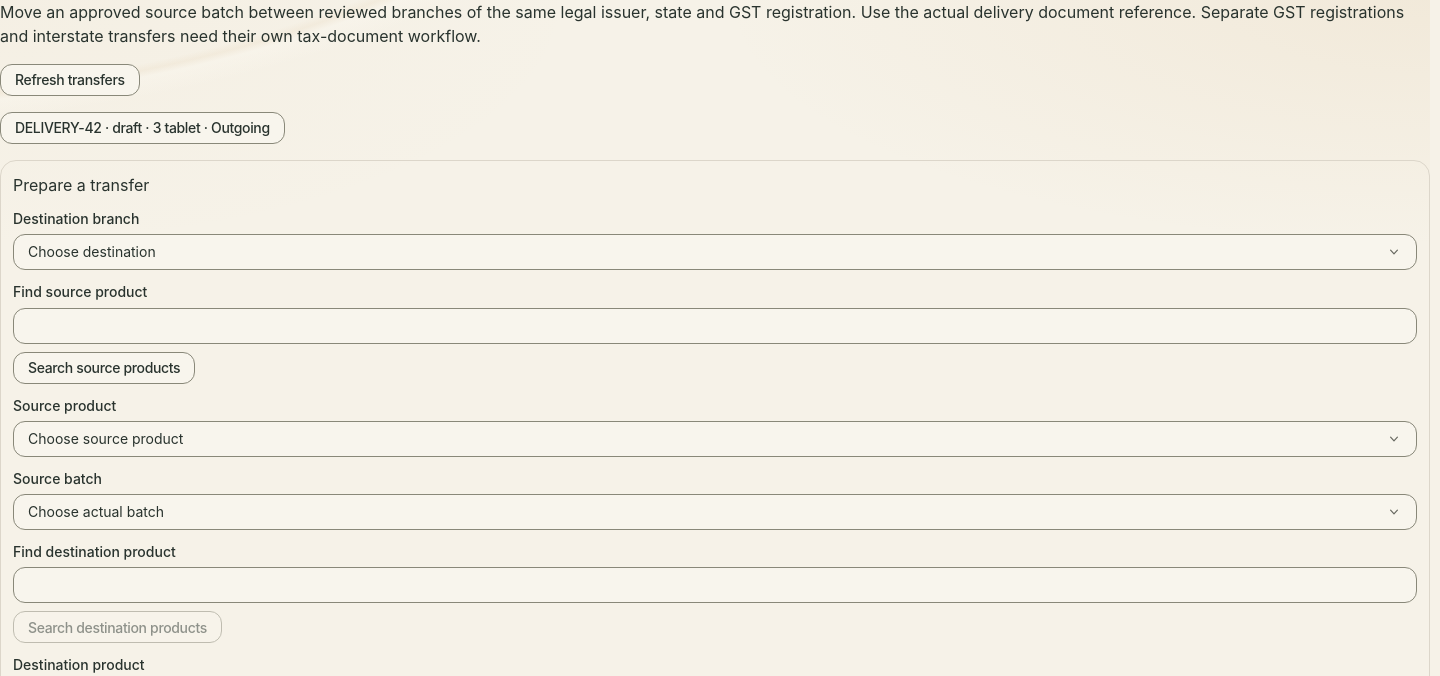
Scenario: retries an unchanged failed stage with the same body and idempotency key
The width and height of the screenshot is (1440, 676).
Click the button "DELIVERY-42 · draft · 3 tablet · Outgoing" at (142, 128), box [0,112,285,144]
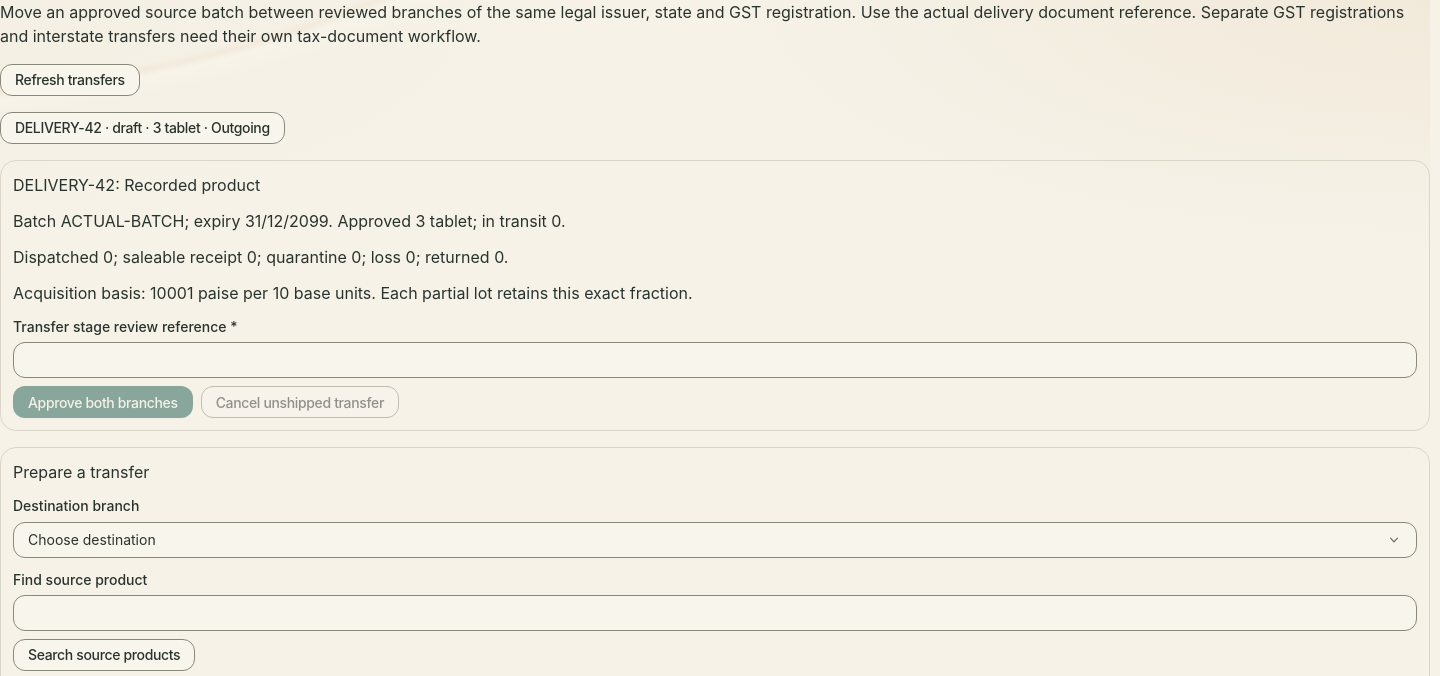
Type "Actual reviewed approval" into the field labelled "Transfer stage review reference *" at (715, 360), box [13,342,1417,378]
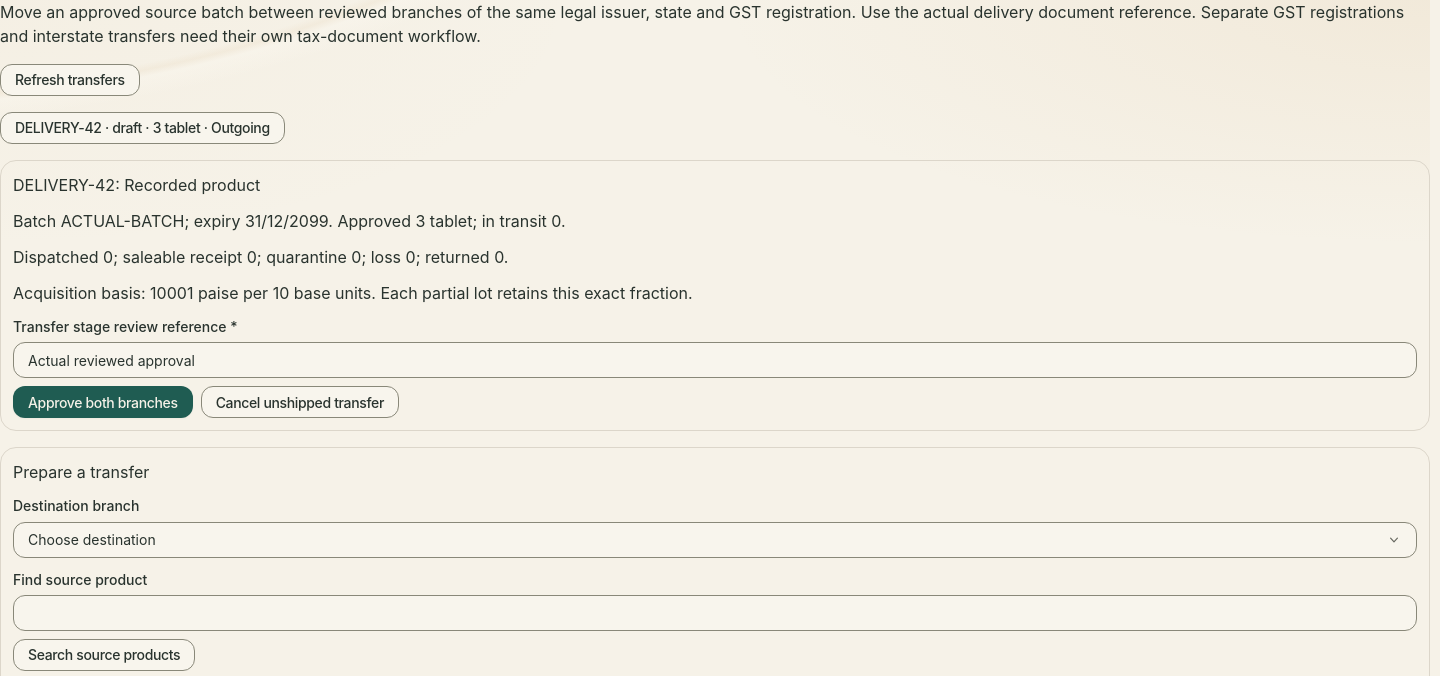
Click the button "Approve both branches" at (103, 402), box [13,386,193,418]
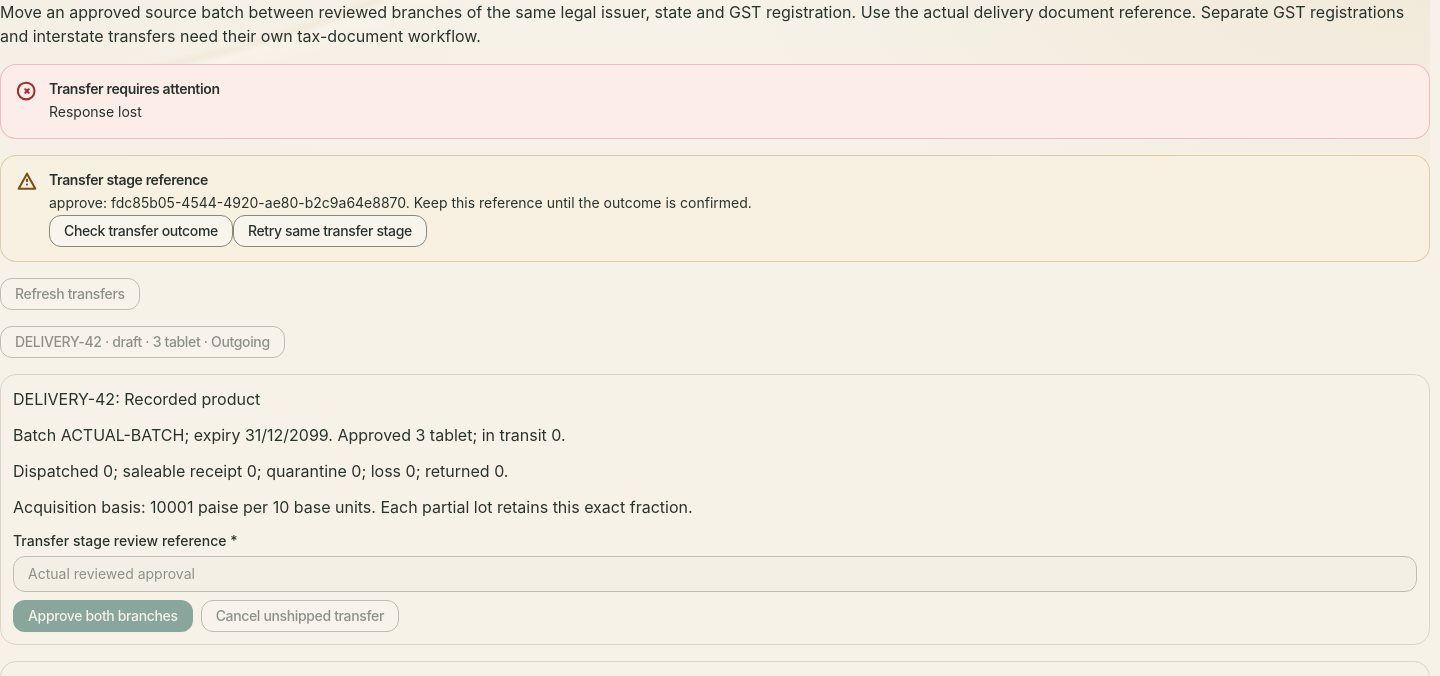
Now the text "Response lost" is shown, box [49,103,142,120]
Click the button "Retry same transfer stage" at (330, 230), box [233,214,427,246]
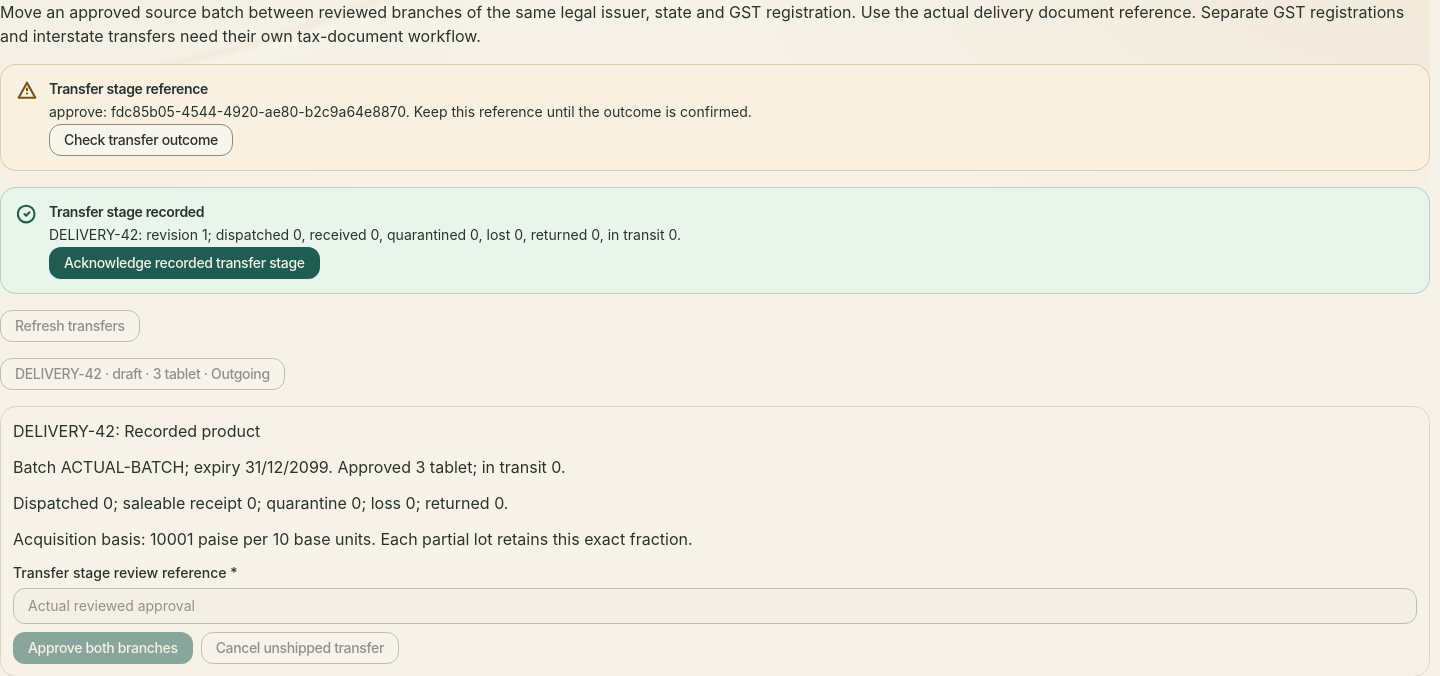
Now the text "Transfer stage recorded" is shown, box [49,203,204,220]
